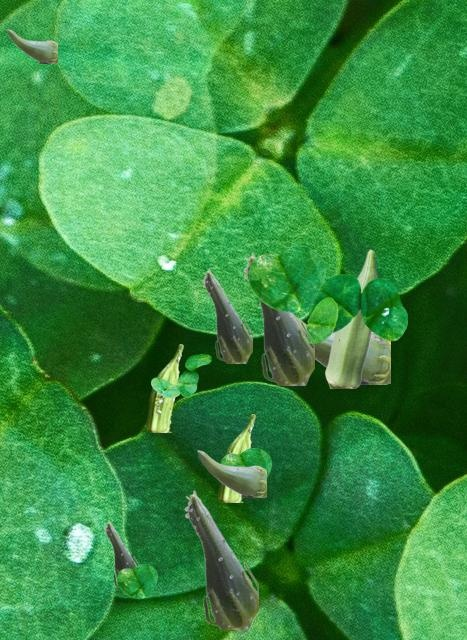okra: (184, 490, 257, 628), (243, 252, 313, 384), (325, 249, 376, 387), (292, 312, 389, 383), (202, 268, 251, 362), (218, 414, 254, 501), (146, 344, 182, 431), (197, 450, 265, 496), (104, 520, 139, 587), (7, 29, 56, 62)
